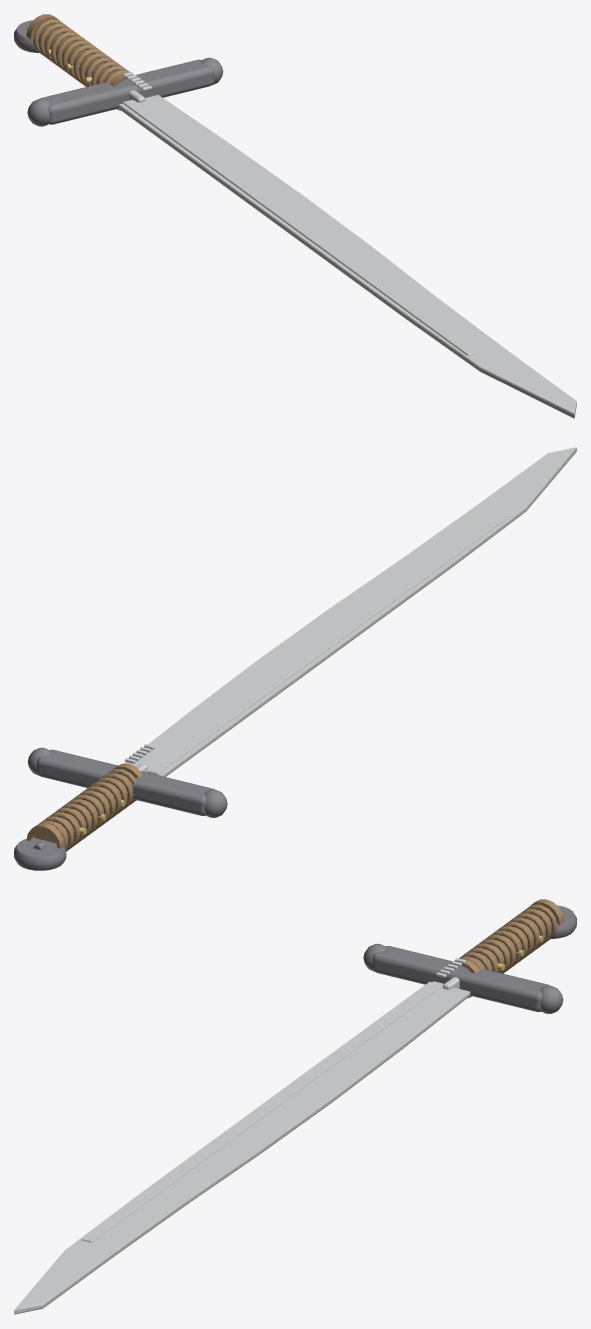
Rendered from grosse-messer.glb.
The picture shows the model from 3 angles, top to bottom: view 1: azimuth 30°, elevation 25°; view 2: azimuth 150°, elevation 25°; view 3: azimuth 330°, elevation 25°; orthographic projection. The views are drawn at different scales.
Visible parts, largest first — view 1: grosse-messer; view 2: grosse-messer; view 3: grosse-messer.
Boxes of the visible parts, box(x1,y1,x2,y2) form: grosse-messer: box(14, 14, 576, 418); grosse-messer: box(14, 447, 576, 870); grosse-messer: box(14, 899, 576, 1314).
Size of the model in its own units: 0.206 by 0.0397 by 1.01.
